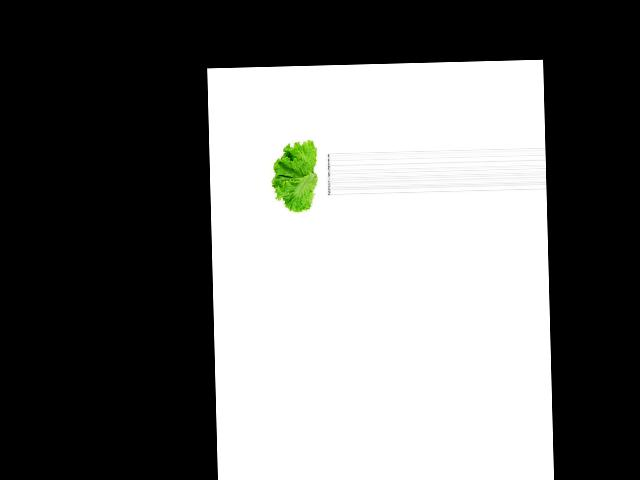lettuce: (270, 139, 327, 214)
